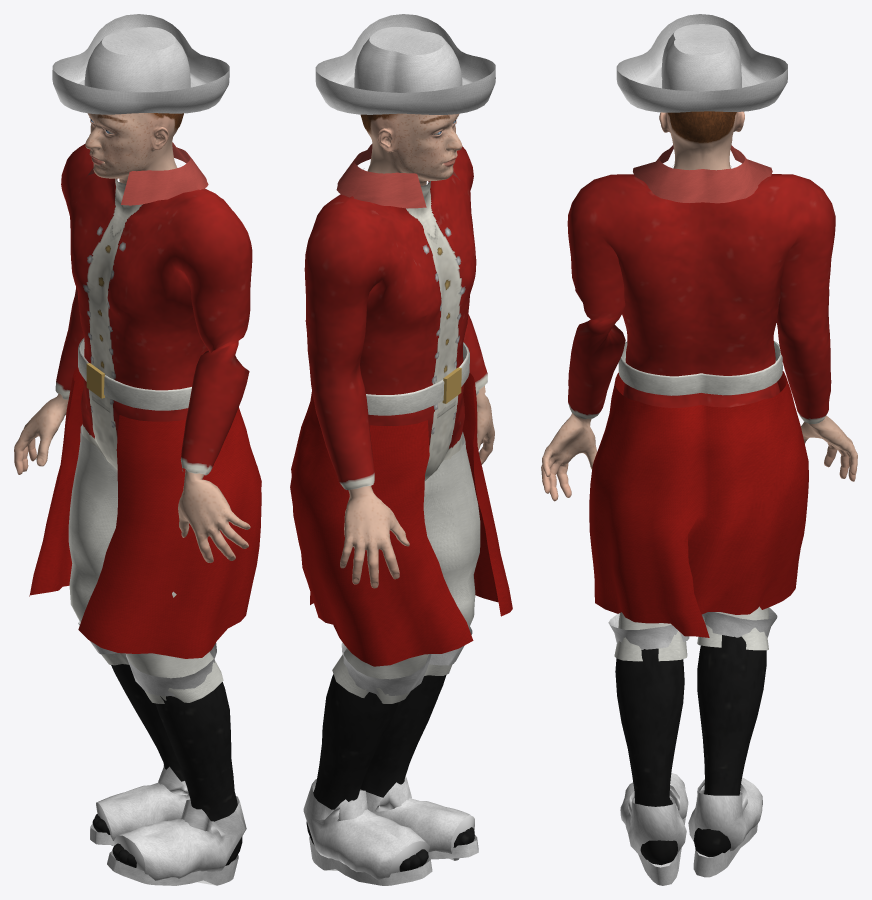
File: SM_Art_Person_albion_soldier.gltf
3 renders of one model, left to right at view 1: azimuth 30°, elevation 25°; view 2: azimuth 150°, elevation 25°; view 3: azimuth 270°, elevation 25°, orthographic. The views are drawn at different scales.
Parts seen in each view (by area): view 1: SM_Art_Person_albion_soldier; view 2: SM_Art_Person_albion_soldier; view 3: SM_Art_Person_albion_soldier.
Part boxes in pixels (x1,y1,x2,y2): SM_Art_Person_albion_soldier: (14,14,261,885); SM_Art_Person_albion_soldier: (290,14,512,885); SM_Art_Person_albion_soldier: (541,14,857,885).
Size of the model in its own units: 0.4438 by 1.87 by 0.6606.
Materials: 16 (15 with a texture image).
